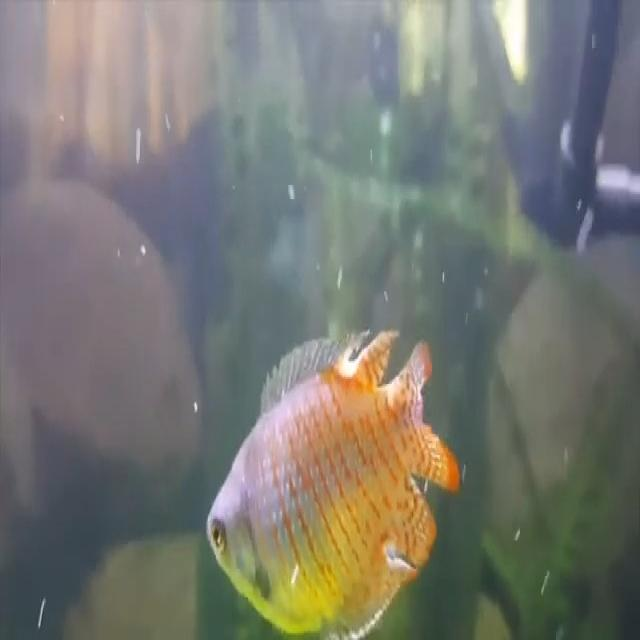fish: (206, 328, 467, 640)
